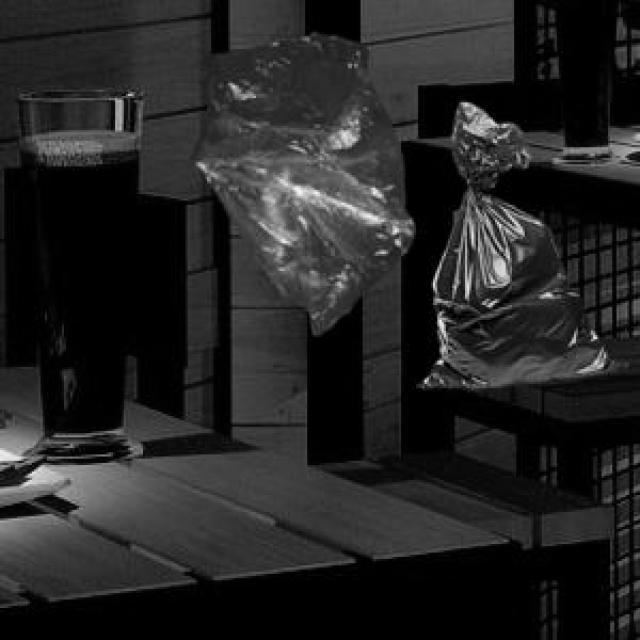miscellaneous trash: (414, 98, 623, 386)
